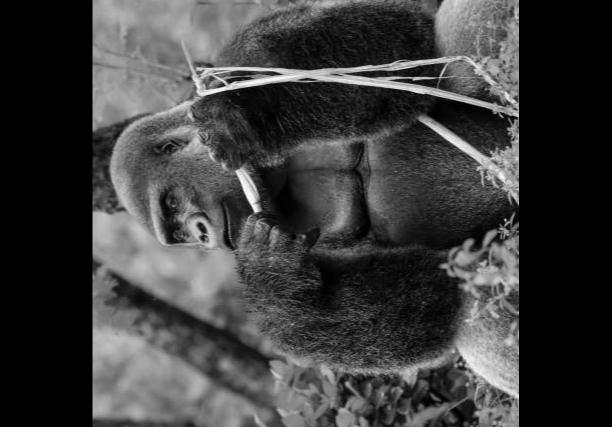gorille_Autres: (93, 0, 514, 406)
